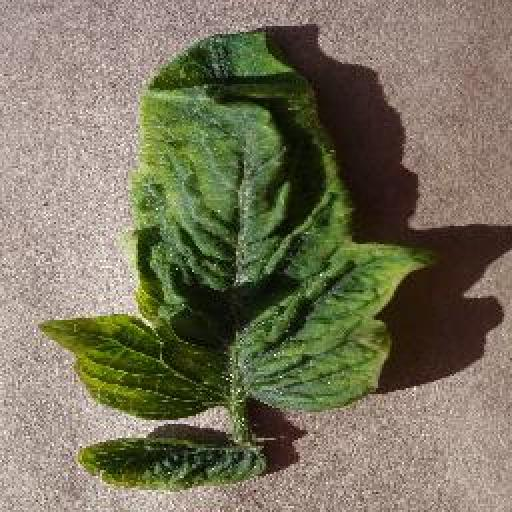Yellow Leaf Curl Virus: (32, 26, 434, 414), (83, 423, 266, 493)
